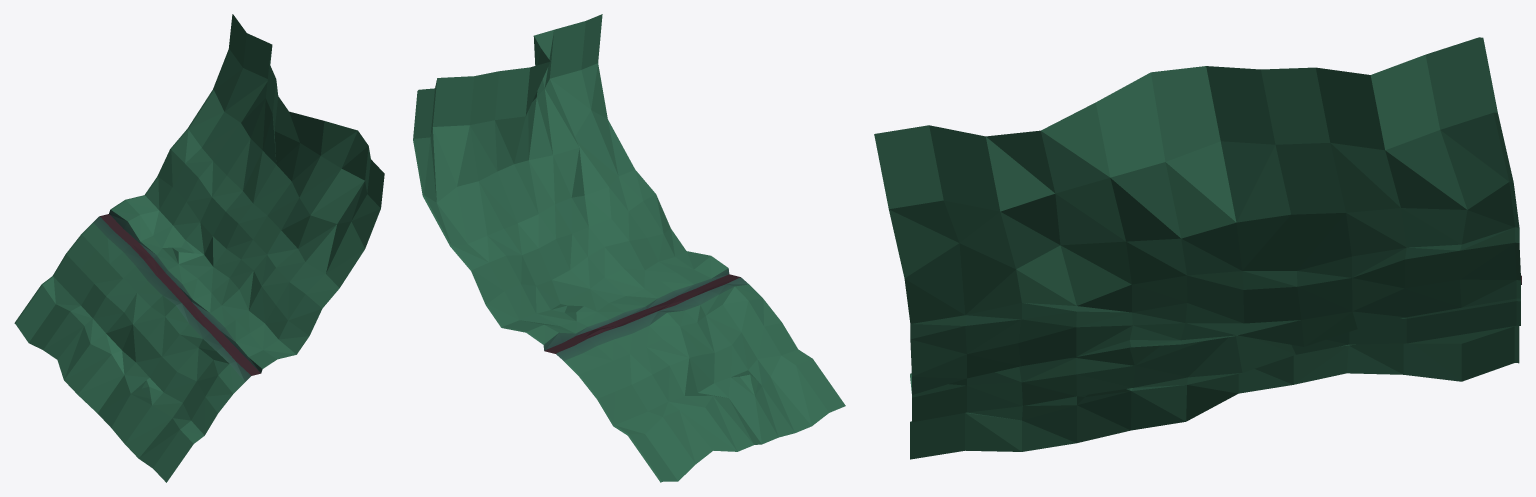
File: groundPlane_3_10.glb
3 renders of one model, left to right at view 1: azimuth 30°, elevation 25°; view 2: azimuth 150°, elevation 25°; view 3: azimuth 270°, elevation 25°, orthographic. The views are drawn at different scales.
Visible parts, largest first — view 1: groundPlane_3_10; view 2: groundPlane_3_10; view 3: groundPlane_3_10.
Boxes of the visible parts, x1,y1,x2,y2 form: groundPlane_3_10: (14, 14, 384, 482); groundPlane_3_10: (413, 14, 845, 482); groundPlane_3_10: (874, 37, 1521, 459).
Size of the model in its own units: 86.83 by 113 by 105.
1 material, 1 textured.
